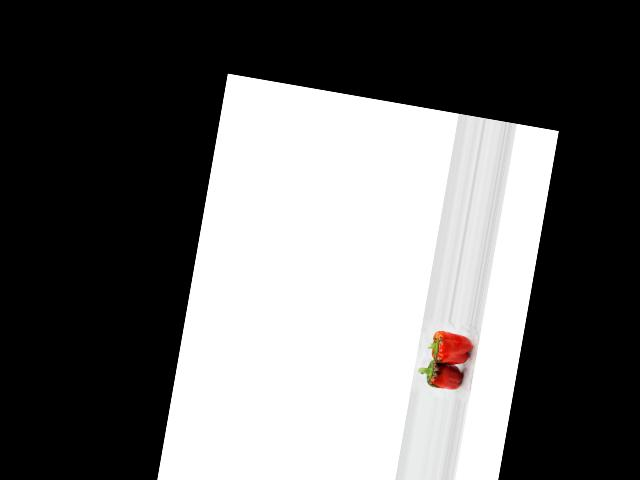bell_pepper: (423, 323, 475, 367)
